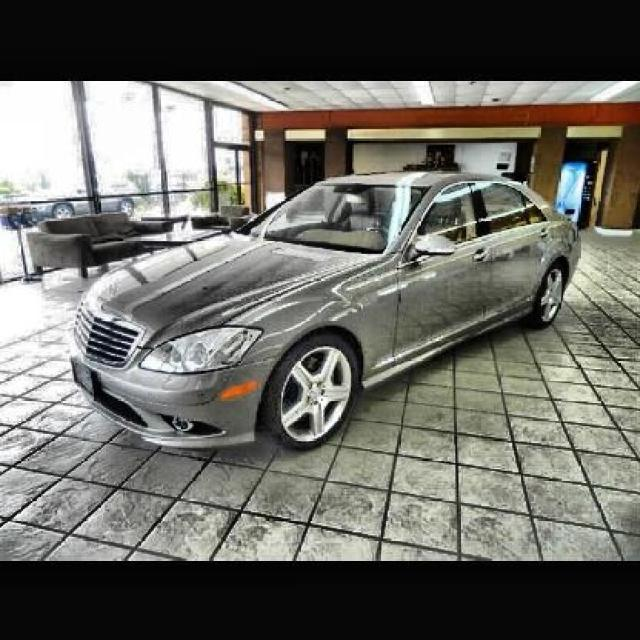silver: (75, 175, 580, 446)
